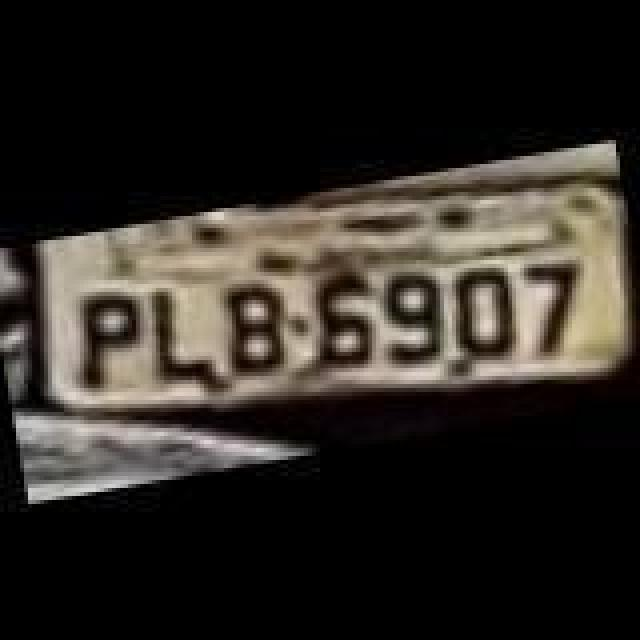6: (302, 264, 386, 376)
7: (514, 246, 598, 362)
9: (372, 264, 460, 376)
B: (210, 270, 294, 386)
L: (136, 268, 224, 388)
O: (448, 262, 528, 362)
P: (68, 282, 148, 398)
